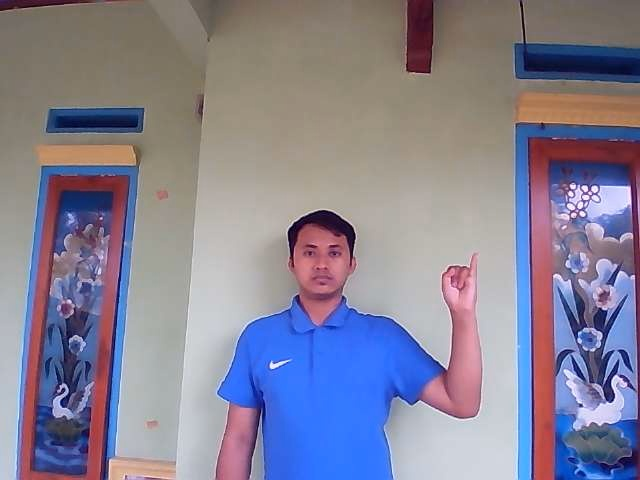I: (440, 251, 480, 313)
